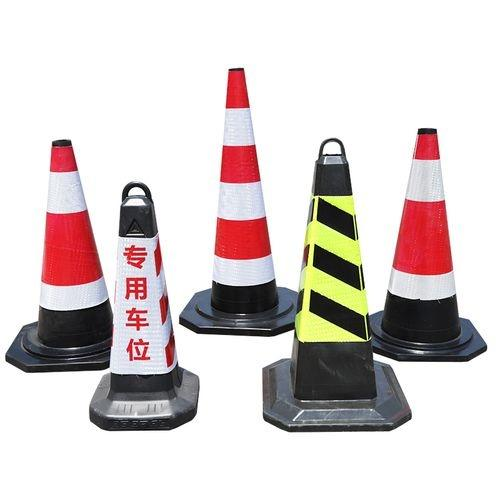cone_barrel: (276, 147, 392, 413), (86, 179, 195, 419), (373, 132, 473, 354), (199, 70, 284, 325), (22, 145, 115, 360)
